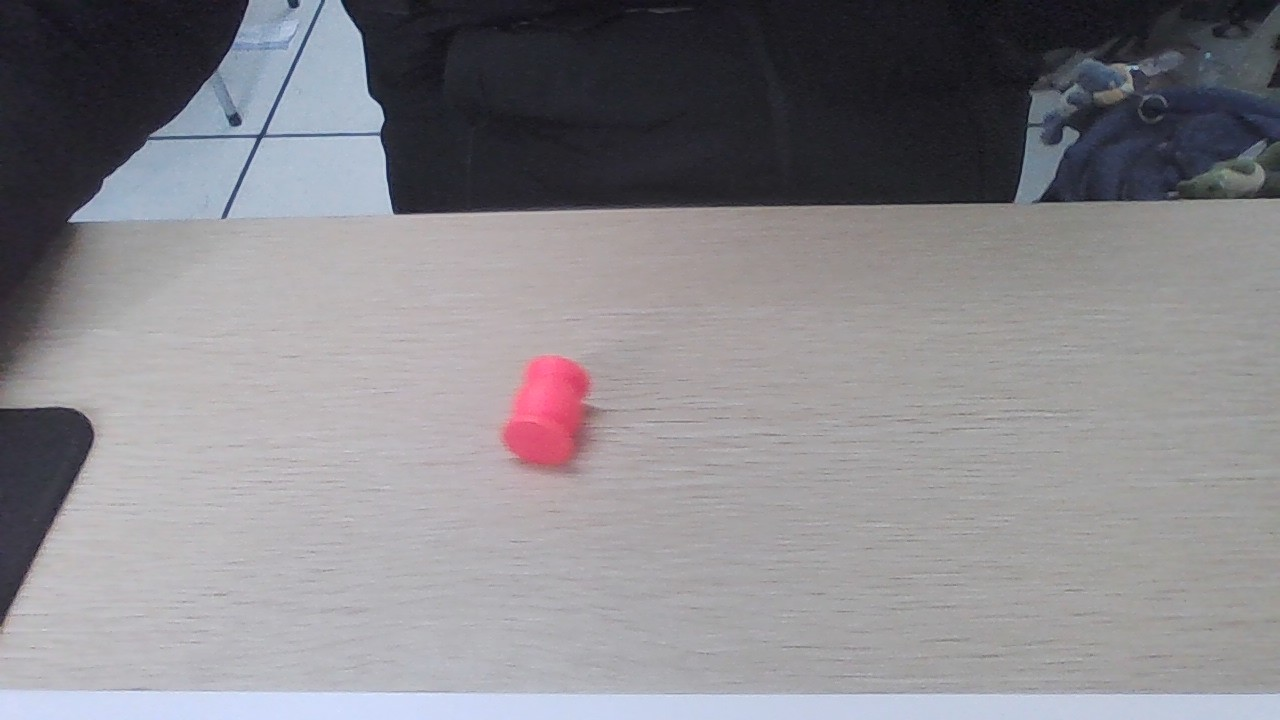KHS-plastic: (508, 360, 586, 462)
